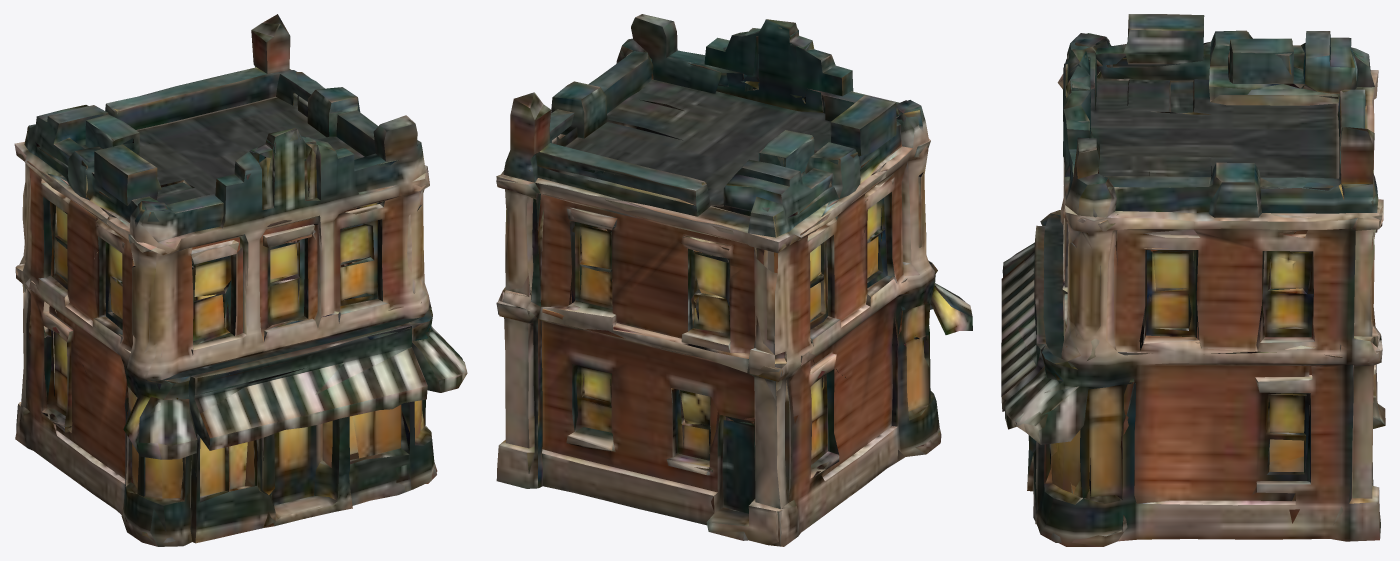
File: shop_2.glb
3 views of the same model, side by side, from view 1: azimuth 30°, elevation 25°; view 2: azimuth 150°, elevation 25°; view 3: azimuth 270°, elevation 25° (orthographic). The views are drawn at different scales.
Parts seen in each view (by area): view 1: expansion__shop_2__neural_lod; view 2: expansion__shop_2__neural_lod; view 3: expansion__shop_2__neural_lod.
Boxes of the visible parts, box(x1,y1,x2,y2) form: expansion__shop_2__neural_lod: box(14, 14, 467, 546); expansion__shop_2__neural_lod: box(496, 14, 972, 546); expansion__shop_2__neural_lod: box(1001, 14, 1385, 546).
Size of the model in its own units: 0.9238 by 0.9971 by 0.8428.
1 material, 1 textured.
